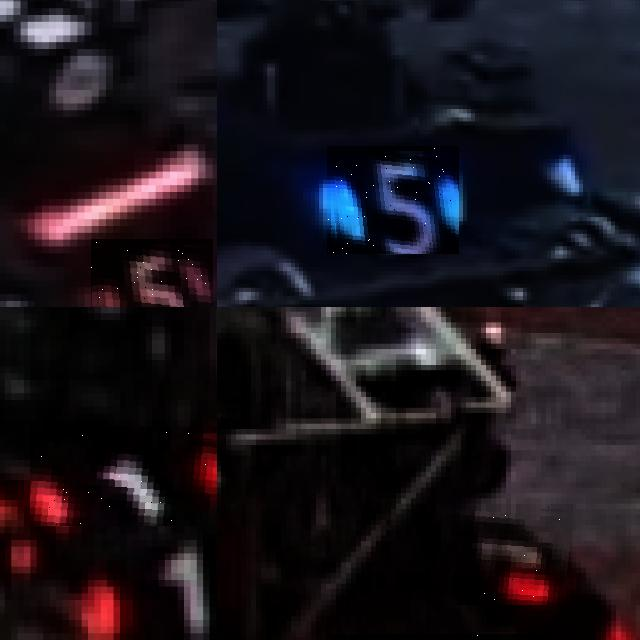B5: (327, 146, 459, 255)
R1: (30, 426, 217, 526), (75, 526, 217, 640), (454, 504, 574, 605)
R5: (91, 239, 212, 307)
